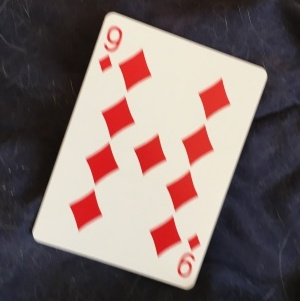card: (30, 8, 269, 293)
